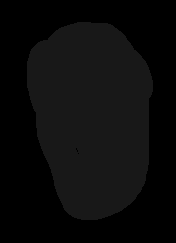fp: (24, 14, 161, 230)
